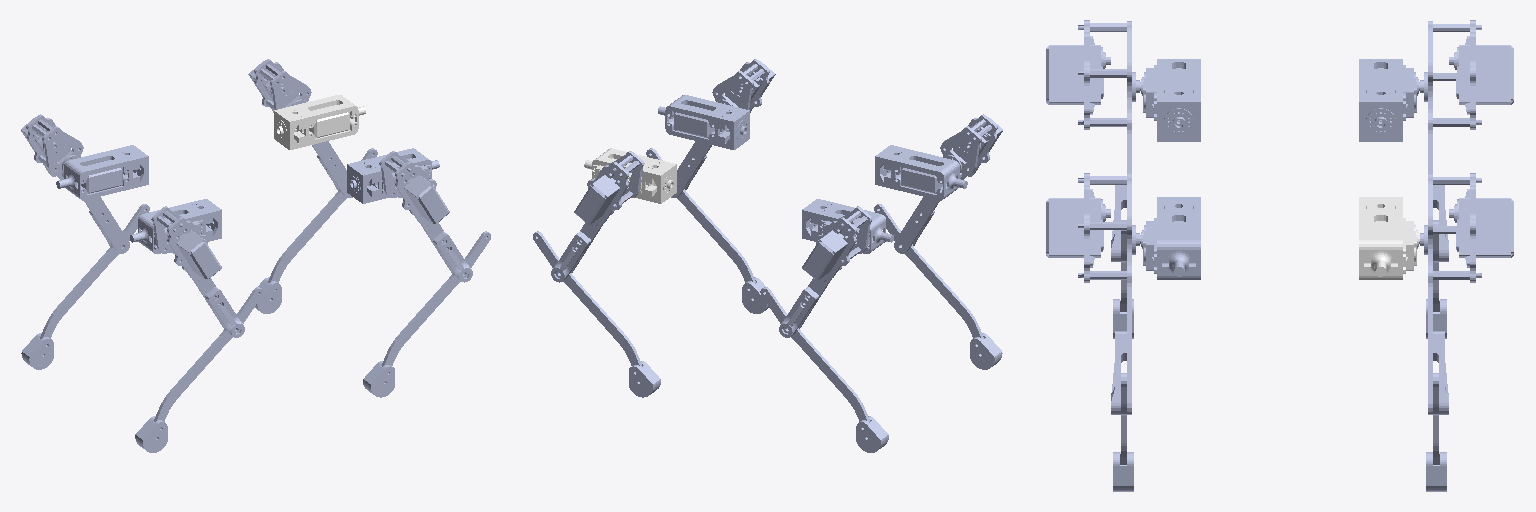
The robot description file, URDF, robot "Jamal_11_URDF":
<?xml version="1.0" encoding="utf-8"?>
<!-- This URDF was automatically created by SolidWorks to URDF Exporter! Originally created by [author] ([email redacted]) 
     Commit Version: 1.6.0-1-g15f4949  Build Version: 1.6.7594.29634
     For more information, please see http://wiki.ros.org/sw_urdf_exporter -->
<robot
  name="Jamal_11_URDF">
  <link
    name="base_link">
    <inertial>
      <origin
        xyz="-0.0147087855029077 0.00572960312645314 -0.000130704777718747"
        rpy="0 0 0" />
      <mass
        value="1.01498313418644" />
      <inertia
        ixx="0.00177854693144854"
        ixy="-0.000210112333583515"
        ixz="3.50408442592368E-08"
        iyy="0.00798658327548668"
        iyz="-5.53644890861778E-09"
        izz="0.0065407260271217" />
    </inertial>
    <visual>
      <origin
        xyz="0 0 0"
        rpy="0 0 0" />
      <geometry>
        <mesh
          filename="package://Jamal_11_URDF/meshes/base_link.STL" />
      </geometry>
      <material
        name="">
        <color
          rgba="0.792156862745098 0.819607843137255 0.933333333333333 1" />
      </material>
    </visual>
    <collision>
      <origin
        xyz="0 0 0"
        rpy="0 0 0" />
      <geometry>
        <mesh
          filename="package://Jamal_11_URDF/meshes/base_link.STL" />
      </geometry>
    </collision>
  </link>
  <link
    name="link_1">
    <inertial>
      <origin
        xyz="-0.0442455478901672 -0.00244919725036426 -1.41780174668697E-08"
        rpy="0 0 0" />
      <mass
        value="0.0641819120792564" />
      <inertia
        ixx="1.13780826144667E-05"
        ixy="-7.79794455740354E-08"
        ixz="-1.69737864997123E-11"
        iyy="2.13895064899051E-05"
        iyz="-1.64888726990257E-11"
        izz="2.37008421305494E-05" />
    </inertial>
    <visual>
      <origin
        xyz="0 0 0"
        rpy="0 0 0" />
      <geometry>
        <mesh
          filename="package://Jamal_11_URDF/meshes/link_1.STL" />
      </geometry>
      <material
        name="">
        <color
          rgba="0.792156862745098 0.819607843137255 0.933333333333333 1" />
      </material>
    </visual>
    <collision>
      <origin
        xyz="0 0 0"
        rpy="0 0 0" />
      <geometry>
        <mesh
          filename="package://Jamal_11_URDF/meshes/link_1.STL" />
      </geometry>
    </collision>
  </link>
  <joint
    name="joint_1"
    type="continuous">
    <origin
      xyz="-0.0739 -0.07 0"
      rpy="0 0 0" />
    <parent
      link="base_link" />
    <child
      link="link_1" />
    <axis
      xyz="-1 0 0" />
    <limit
      lower="-0.785"
      upper="0.785"
      effort="4"
      velocity="1" />
  </joint>
  <link
    name="link_5">
    <inertial>
      <origin
        xyz="0.0001443 -0.032914 -0.0080363"
        rpy="0 0 0" />
      <mass
        value="0.05623" />
      <inertia
        ixx="3.8125E-05"
        ixy="-1.9726E-11"
        ixz="-1.8161E-11"
        iyy="3.5943E-05"
        iyz="-1.8092E-07"
        izz="6.7549E-06" />
    </inertial>
    <visual>
      <origin
        xyz="0 0 0"
        rpy="0 0 0" />
      <geometry>
        <mesh
          filename="package://Jamal_11_URDF/meshes/link_5.STL" />
      </geometry>
      <material
        name="">
        <color
          rgba="0.79216 0.81961 0.93333 1" />
      </material>
    </visual>
    <collision>
      <origin
        xyz="0 0 0"
        rpy="0 0 0" />
      <geometry>
        <mesh
          filename="package://Jamal_11_URDF/meshes/link_5.STL" />
      </geometry>
    </collision>
  </link>
  <joint
    name="joint_5"
    type="continuous">
    <origin
      xyz="-0.0615 -0.0269 0"
      rpy="0 -0.5236 0" />
    <parent
      link="link_1" />
    <child
      link="link_5" />
    <axis
      xyz="0 1 0" />
    <limit
      lower="-1.57"
      upper="1.57"
      effort="4"
      velocity="1" />
  </joint>
  <link
    name="link_9">
    <inertial>
      <origin
        xyz="-0.00638795083063136 -0.00750000000000009 -0.0888795675886375"
        rpy="0 0 0" />
      <mass
        value="0.015225991922493" />
      <inertia
        ixx="1.80997696411931E-05"
        ixy="-2.81885592407866E-21"
        ixz="-1.64216623015799E-06"
        iyy="1.86905765962856E-05"
        iyz="-1.36113775741341E-20"
        izz="6.43617139572536E-07" />
    </inertial>
    <visual>
      <origin
        xyz="0 0 0"
        rpy="0 0 0" />
      <geometry>
        <mesh
          filename="package://Jamal_11_URDF/meshes/link_9.STL" />
      </geometry>
      <material
        name="">
        <color
          rgba="0.792156862745098 0.819607843137255 0.933333333333333 1" />
      </material>
    </visual>
    <collision>
      <origin
        xyz="0 0 0"
        rpy="0 0 0" />
      <geometry>
        <mesh
          filename="package://Jamal_11_URDF/meshes/link_9.STL" />
      </geometry>
    </collision>
  </link>
  <joint
    name="joint_9"
    type="continuous">
    <origin
      xyz="0 -0.004 -0.1143"
      rpy="0 1.2341 0" />
    <parent
      link="link_5" />
    <child
      link="link_9" />
    <axis
      xyz="0 1 0" />
    <limit
      lower="-1.57"
      upper="1.57"
      effort="4"
      velocity="1" />
  </joint>
  <link
    name="link_2">
    <inertial>
      <origin
        xyz="-0.0442455478901672 0.00244919698064999 1.44307169244211E-08"
        rpy="0 0 0" />
      <mass
        value="0.0641819120792564" />
      <inertia
        ixx="1.13780826144667E-05"
        ixy="7.79789486732497E-08"
        ixz="1.74320652288723E-11"
        iyy="2.13895064899051E-05"
        iyz="-1.64888726993829E-11"
        izz="2.37008421305494E-05" />
    </inertial>
    <visual>
      <origin
        xyz="0 0 0"
        rpy="0 0 0" />
      <geometry>
        <mesh
          filename="package://Jamal_11_URDF/meshes/link_2.STL" />
      </geometry>
      <material
        name="">
        <color
          rgba="0.792156862745098 0.819607843137255 0.933333333333333 1" />
      </material>
    </visual>
    <collision>
      <origin
        xyz="0 0 0"
        rpy="0 0 0" />
      <geometry>
        <mesh
          filename="package://Jamal_11_URDF/meshes/link_2.STL" />
      </geometry>
    </collision>
  </link>
  <joint
    name="joint_2"
    type="continuous">
    <origin
      xyz="-0.0739 0.07 0"
      rpy="0 0 0" />
    <parent
      link="base_link" />
    <child
      link="link_2" />
    <axis
      xyz="1 0 0" />
    <limit
      lower="-0.785"
      upper="0.785"
      effort="4"
      velocity="1" />
  </joint>
  <link
    name="link_6">
    <inertial>
      <origin
        xyz="-0.000144311272056344 0.0329144607872598 -0.00803630182657724"
        rpy="0 0 0" />
      <mass
        value="0.0562301441472765" />
      <inertia
        ixx="3.81253016394536E-05"
        ixy="-1.65109833126889E-11"
        ixz="1.83600176447832E-11"
        iyy="3.59431069065172E-05"
        iyz="1.80943321147875E-07"
        izz="6.7548717972895E-06" />
    </inertial>
    <visual>
      <origin
        xyz="0 0 0"
        rpy="0 0 0" />
      <geometry>
        <mesh
          filename="package://Jamal_11_URDF/meshes/link_6.STL" />
      </geometry>
      <material
        name="">
        <color
          rgba="0.792156862745098 0.819607843137255 0.933333333333333 1" />
      </material>
    </visual>
    <collision>
      <origin
        xyz="0 0 0"
        rpy="0 0 0" />
      <geometry>
        <mesh
          filename="package://Jamal_11_URDF/meshes/link_6.STL" />
      </geometry>
    </collision>
  </link>
  <joint
    name="joint_6"
    type="continuous">
    <origin
      xyz="-0.0615 0.0269 0"
      rpy="0 -0.5236 0" />
    <parent
      link="link_2" />
    <child
      link="link_6" />
    <axis
      xyz="0 -1 0" />
    <limit
      lower="-1.57"
      upper="1.57"
      effort="4"
      velocity="1" />
  </joint>
  <link
    name="link_10">
    <inertial>
      <origin
        xyz="-0.00638795083063163 0.00749999999999994 -0.0888795675886378"
        rpy="0 0 0" />
      <mass
        value="0.0152259919224931" />
      <inertia
        ixx="1.80997696411931E-05"
        ixy="-8.54942592679236E-21"
        ixz="-1.64216623015801E-06"
        iyy="1.86905765962856E-05"
        iyz="-2.67673671568176E-20"
        izz="6.43617139572537E-07" />
    </inertial>
    <visual>
      <origin
        xyz="0 0 0"
        rpy="0 0 0" />
      <geometry>
        <mesh
          filename="package://Jamal_11_URDF/meshes/link_10.STL" />
      </geometry>
      <material
        name="">
        <color
          rgba="0.792156862745098 0.819607843137255 0.933333333333333 1" />
      </material>
    </visual>
    <collision>
      <origin
        xyz="0 0 0"
        rpy="0 0 0" />
      <geometry>
        <mesh
          filename="package://Jamal_11_URDF/meshes/link_10.STL" />
      </geometry>
    </collision>
  </link>
  <joint
    name="joint_10"
    type="continuous">
    <origin
      xyz="0 0.00400000000000013 -0.1143"
      rpy="0 1.23414620043141 0" />
    <parent
      link="link_6" />
    <child
      link="link_10" />
    <axis
      xyz="0 -1 0" />
    <limit
      lower="-1.57"
      upper="1.57"
      effort="4"
      velocity="1" />
  </joint>
  <link
    name="link_3">
    <inertial>
      <origin
        xyz="0.0441274145880996 -0.00244919698064999 -1.41780173840781E-08"
        rpy="0 0 0" />
      <mass
        value="0.0641819120792564" />
      <inertia
        ixx="1.13780826144667E-05"
        ixy="-7.79794455740208E-08"
        ixz="-1.74320652226959E-11"
        iyy="2.13895064899051E-05"
        iyz="-1.6485286490832E-11"
        izz="2.37008421305494E-05" />
    </inertial>
    <visual>
      <origin
        xyz="0 0 0"
        rpy="0 0 0" />
      <geometry>
        <mesh
          filename="package://Jamal_11_URDF/meshes/link_3.STL" />
      </geometry>
      <material
        name="">
        <color
          rgba="0.792156862745098 0.819607843137255 0.933333333333333 1" />
      </material>
    </visual>
    <collision>
      <origin
        xyz="0 0 0"
        rpy="0 0 0" />
      <geometry>
        <mesh
          filename="package://Jamal_11_URDF/meshes/link_3.STL" />
      </geometry>
    </collision>
  </link>
  <joint
    name="joint_3"
    type="continuous">
    <origin
      xyz="0.0739 -0.07 0"
      rpy="0 0 0" />
    <parent
      link="base_link" />
    <child
      link="link_3" />
    <axis
      xyz="-1 0 0" />
    <limit
      lower="-0.785"
      upper="0.785"
      effort="4"
      velocity="1" />
  </joint>
  <link
    name="link_7">
    <inertial>
      <origin
        xyz="0.000144302006960098 -0.0329144622785367 -0.0080362899486495"
        rpy="0 0 0" />
      <mass
        value="0.0562301381079356" />
      <inertia
        ixx="3.81253009923937E-05"
        ixy="-1.96613648456006E-11"
        ixz="-1.8184230622412E-11"
        iyy="3.59431064760427E-05"
        iyz="-1.80921414758251E-07"
        izz="6.75487140501562E-06" />
    </inertial>
    <visual>
      <origin
        xyz="0 0 0"
        rpy="0 0 0" />
      <geometry>
        <mesh
          filename="package://Jamal_11_URDF/meshes/link_7.STL" />
      </geometry>
      <material
        name="">
        <color
          rgba="0.792156862745098 0.819607843137255 0.933333333333333 1" />
      </material>
    </visual>
    <collision>
      <origin
        xyz="0 0 0"
        rpy="0 0 0" />
      <geometry>
        <mesh
          filename="package://Jamal_11_URDF/meshes/link_7.STL" />
      </geometry>
    </collision>
  </link>
  <joint
    name="joint_7"
    type="continuous">
    <origin
      xyz="0.0415 -0.0269000000000001 0"
      rpy="0 -0.523598775598261 0" />
    <parent
      link="link_3" />
    <child
      link="link_7" />
    <axis
      xyz="0 1 0" />
    <limit
      lower="-1.57"
      upper="1.57"
      effort="4"
      velocity="1" />
  </joint>
  <link
    name="link_11">
    <inertial>
      <origin
        xyz="-0.00638795083063129 -0.00750000000000006 -0.0888795675886375"
        rpy="0 0 0" />
      <mass
        value="0.015225991922493" />
      <inertia
        ixx="1.80997696411931E-05"
        ixy="-2.31476982390325E-21"
        ixz="-1.64216623015798E-06"
        iyy="1.86905765962856E-05"
        iyz="-1.74986627533105E-20"
        izz="6.43617139572533E-07" />
    </inertial>
    <visual>
      <origin
        xyz="0 0 0"
        rpy="0 0 0" />
      <geometry>
        <mesh
          filename="package://Jamal_11_URDF/meshes/link_11.STL" />
      </geometry>
      <material
        name="">
        <color
          rgba="0.792156862745098 0.819607843137255 0.933333333333333 1" />
      </material>
    </visual>
    <collision>
      <origin
        xyz="0 0 0"
        rpy="0 0 0" />
      <geometry>
        <mesh
          filename="package://Jamal_11_URDF/meshes/link_11.STL" />
      </geometry>
    </collision>
  </link>
  <joint
    name="joint_11"
    type="continuous">
    <origin
      xyz="0 -0.00399999999999992 -0.1143"
      rpy="0 1.23414620043141 0" />
    <parent
      link="link_7" />
    <child
      link="link_11" />
    <axis
      xyz="0 1 0" />
    <limit
      lower="-1.57"
      upper="1.57"
      effort="4"
      velocity="1" />
  </joint>
  <link
    name="link_4">
    <inertial>
      <origin
        xyz="0 0 0"
        rpy="0 0 0" />
      <mass
        value="0" />
      <inertia
        ixx="0"
        ixy="0"
        ixz="0"
        iyy="0"
        iyz="0"
        izz="0" />
    </inertial>
    <visual>
      <origin
        xyz="0 0 0"
        rpy="0 0 0" />
      <geometry>
        <mesh
          filename="package://Jamal_11_URDF/meshes/link_4.STL" />
      </geometry>
      <material
        name="">
        <color
          rgba="1 1 1 1" />
      </material>
    </visual>
    <collision>
      <origin
        xyz="0 0 0"
        rpy="0 0 0" />
      <geometry>
        <mesh
          filename="package://Jamal_11_URDF/meshes/link_4.STL" />
      </geometry>
    </collision>
  </link>
  <joint
    name="joint_4"
    type="continuous">
    <origin
      xyz="0.0739 0.0699999999999999 0"
      rpy="0 0 0" />
    <parent
      link="base_link" />
    <child
      link="link_4" />
    <axis
      xyz="1 0 0" />
    <limit
      lower="-0.785"
      upper="0.785"
      effort="4"
      velocity="1" />
  </joint>
  <link
    name="link_8">
    <inertial>
      <origin
        xyz="-0.000144310528868957 0.0329144621275925 -0.00803630486551648"
        rpy="0 0 0" />
      <mass
        value="0.0562301389880002" />
      <inertia
        ixx="3.81253013662356E-05"
        ixy="-1.63959792248844E-11"
        ixz="1.83569012232642E-11"
        iyy="3.59431068995489E-05"
        iyz="1.80943307837833E-07"
        izz="6.75487151041171E-06" />
    </inertial>
    <visual>
      <origin
        xyz="0 0 0"
        rpy="0 0 0" />
      <geometry>
        <mesh
          filename="package://Jamal_11_URDF/meshes/link_8.STL" />
      </geometry>
      <material
        name="">
        <color
          rgba="0.792156862745098 0.819607843137255 0.933333333333333 1" />
      </material>
    </visual>
    <collision>
      <origin
        xyz="0 0 0"
        rpy="0 0 0" />
      <geometry>
        <mesh
          filename="package://Jamal_11_URDF/meshes/link_8.STL" />
      </geometry>
    </collision>
  </link>
  <joint
    name="joint_8"
    type="continuous">
    <origin
      xyz="0.0415 0.0269000000000001 0"
      rpy="0 -0.523598775598274 0" />
    <parent
      link="link_4" />
    <child
      link="link_8" />
    <axis
      xyz="0 -1 0" />
    <limit
      lower="-1.57"
      upper="1.57"
      effort="4"
      velocity="1" />
  </joint>
  <link
    name="link_12">
    <inertial>
      <origin
        xyz="-0.00638795083063148 0.00749999999999998 -0.0888795675886379"
        rpy="0 0 0" />
      <mass
        value="0.015225991922493" />
      <inertia
        ixx="1.80997696411931E-05"
        ixy="-2.8154718912583E-21"
        ixz="-1.64216623015801E-06"
        iyy="1.86905765962856E-05"
        iyz="-1.65269286746792E-20"
        izz="6.43617139572538E-07" />
    </inertial>
    <visual>
      <origin
        xyz="0 0 0"
        rpy="0 0 0" />
      <geometry>
        <mesh
          filename="package://Jamal_11_URDF/meshes/link_12.STL" />
      </geometry>
      <material
        name="">
        <color
          rgba="0.792156862745098 0.819607843137255 0.933333333333333 1" />
      </material>
    </visual>
    <collision>
      <origin
        xyz="0 0 0"
        rpy="0 0 0" />
      <geometry>
        <mesh
          filename="package://Jamal_11_URDF/meshes/link_12.STL" />
      </geometry>
    </collision>
  </link>
  <joint
    name="joint_12"
    type="continuous">
    <origin
      xyz="0 0.00399999999999995 -0.1143"
      rpy="0 1.23414620043142 0" />
    <parent
      link="link_8" />
    <child
      link="link_12" />
    <axis
      xyz="0 -1 0" />
    <limit
      lower="-1.57"
      upper="1.57"
      effort="4"
      velocity="1" />
  </joint>
</robot>

--- What the picture shows (computed from the rendered views, not written in the file) ---
The picture shows the robot from 3 angles, left to right: view 1: azimuth 30°, elevation 25°; view 2: azimuth 150°, elevation 25°; view 3: azimuth 270°, elevation 25°; orthographic projection.
Model Jamal_11_URDF with 13 links and 12 joints (12 continuous), rooted at base_link, posed all joints at 0.
Links seen in each view (by area): view 1: link_7, link_5, link_2, link_4, link_6, link_8, link_9, link_11, link_10, link_3, link_12, link_1; view 2: link_8, link_6, link_1, link_3, link_5, link_7, link_10, link_12, link_9, link_4, link_11, link_2; view 3: link_7, link_8, link_5, link_6, link_1, link_2, link_3, link_4, link_11, link_12, link_9, link_10.
Link boxes in pixels (box(x1,y1,x2,y2)): link_7: box(379, 151, 472, 282); link_5: box(151, 206, 244, 337); link_2: box(56, 145, 148, 200); link_4: box(274, 95, 365, 149); link_6: box(21, 114, 129, 253); link_8: box(248, 59, 352, 197); link_9: box(135, 287, 263, 452); link_11: box(363, 231, 490, 397); link_10: box(21, 204, 149, 369); link_3: box(347, 148, 439, 203); link_12: box(254, 148, 377, 313); link_1: box(130, 199, 221, 253); link_8: box(551, 151, 644, 282); link_6: box(779, 206, 871, 337); link_1: box(875, 145, 967, 200); link_3: box(658, 95, 749, 149); link_5: box(894, 114, 1002, 253); link_7: box(671, 59, 775, 197); link_10: box(760, 287, 888, 452); link_12: box(533, 231, 660, 397); link_9: box(874, 204, 1002, 369); link_4: box(584, 148, 676, 203); link_11: box(646, 148, 769, 313); link_2: box(802, 199, 893, 253); link_7: box(1046, 173, 1139, 414); link_8: box(1420, 173, 1513, 414); link_5: box(1046, 20, 1139, 261); link_6: box(1420, 20, 1513, 261); link_1: box(1140, 59, 1200, 141); link_2: box(1359, 59, 1419, 141); link_3: box(1140, 197, 1200, 279); link_4: box(1359, 197, 1419, 279); link_11: box(1113, 373, 1133, 491); link_12: box(1426, 373, 1446, 491); link_9: box(1113, 220, 1133, 338); link_10: box(1426, 220, 1446, 338).
Bounding box of the posed robot: 0.3867 × 0.3248 × 0.2499 m (x, y, z).
Meshes: 13 distinct files referenced, 12 mesh visuals loaded (12 binary STL); not drawn: 1 (reference not matched to a file when rendering).
